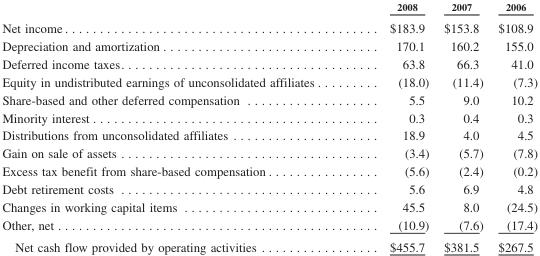table: (1, 0, 536, 253)
table column: (1, 0, 351, 253), (351, 0, 435, 253), (435, 0, 490, 253), (490, 0, 536, 253)
table column header: (1, 0, 536, 16)
table row: (1, 16, 536, 36), (1, 215, 536, 235), (1, 36, 536, 54), (1, 54, 536, 72), (1, 72, 536, 90), (1, 90, 536, 108), (1, 108, 536, 126), (1, 126, 536, 144), (1, 161, 536, 179), (1, 179, 536, 197), (1, 197, 536, 215), (1, 235, 536, 253), (1, 144, 536, 161), (1, 0, 536, 16)
